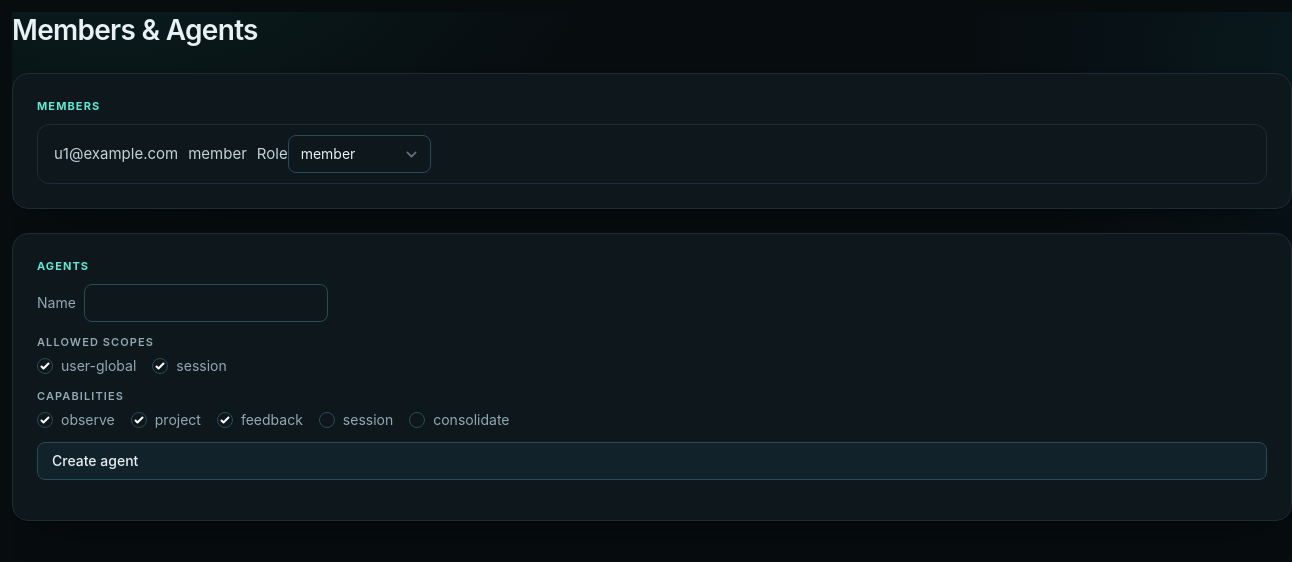
it: MembersPage › creates an agent and reveals the one-time secret
Type "Pi Agent" into the field labelled "Name".
click(206, 303); type("Pi Agent")  # box left=84, top=284, right=328, bottom=322
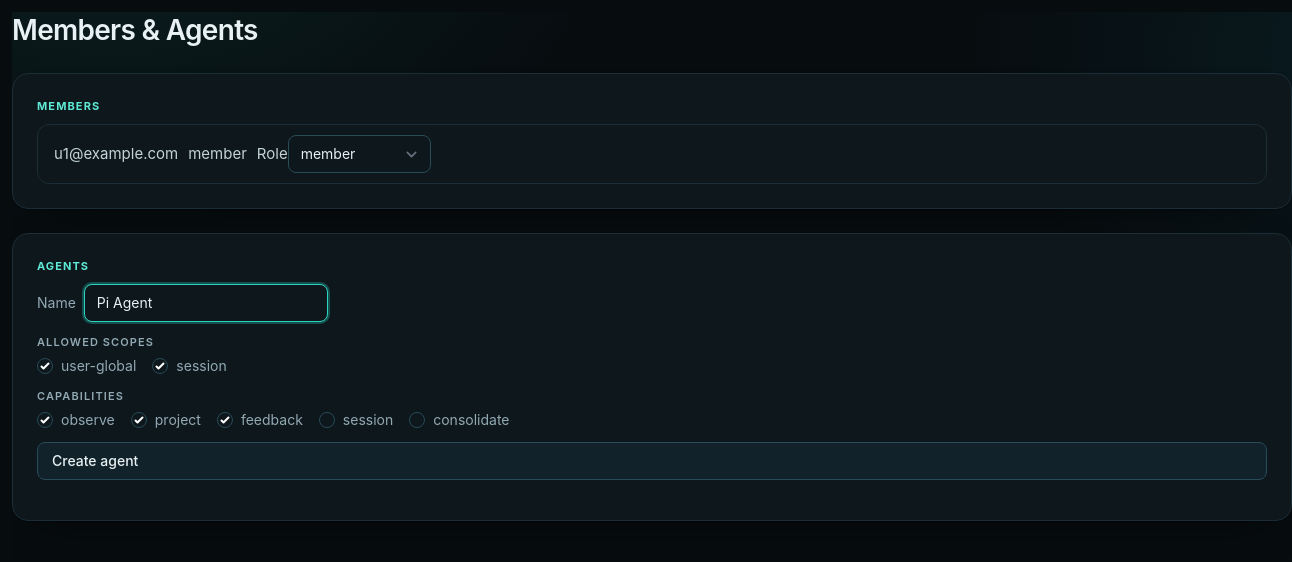
Click the button "Create agent".
click(95, 460)  # box left=37, top=442, right=1267, bottom=480
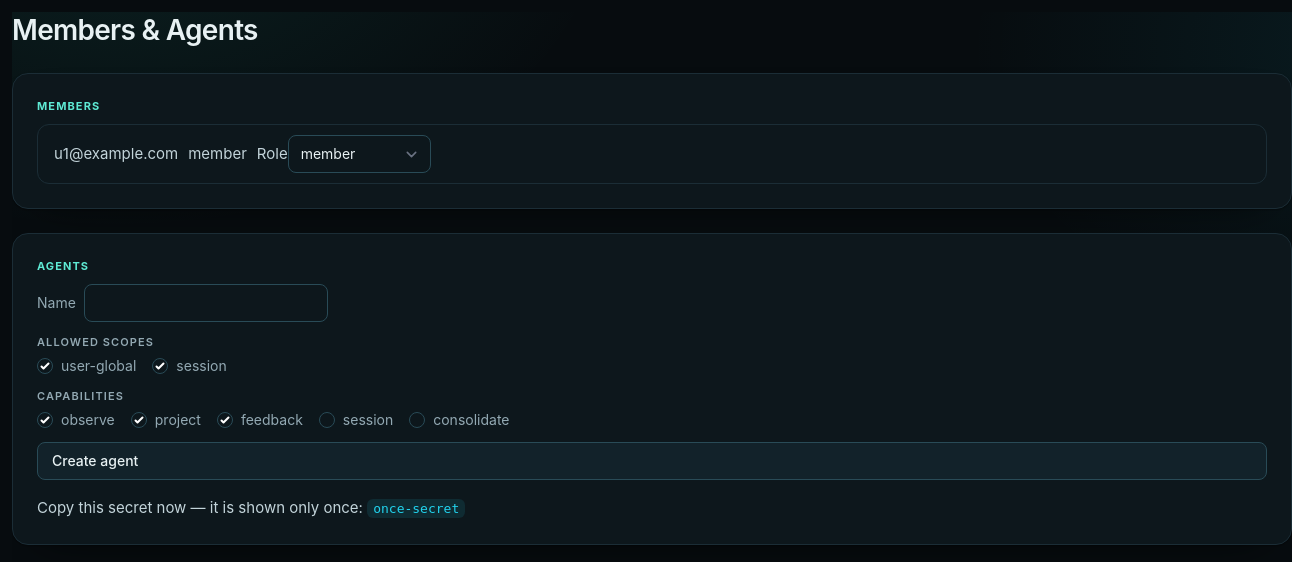
Expected: the element with test id "agent-secret" shows "once-secret", left=373, top=501, right=459, bottom=516
